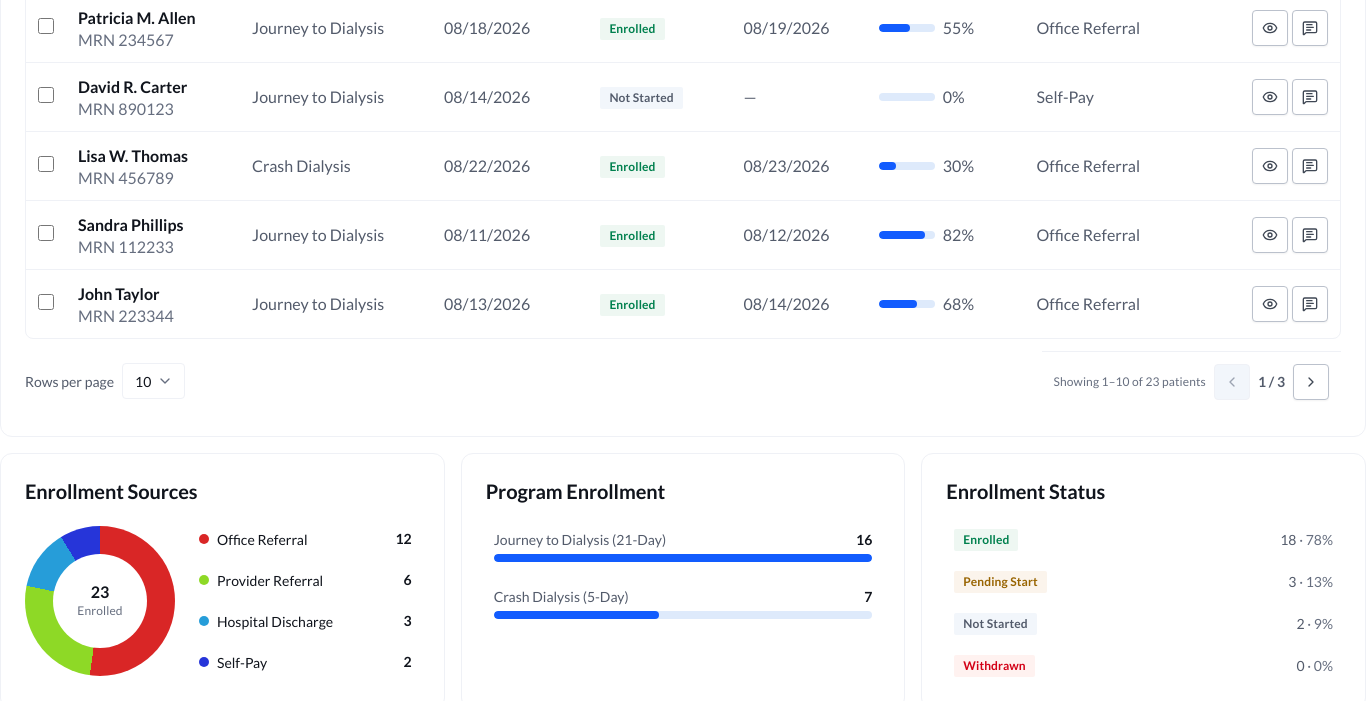
filtering from the panels › narrows the table by referral source, and writes it to the URL
This screenshot has width=1366, height=701.
(page scrolled)
What coordinates should you click on to do the following:
click the button "Self-Pay 2"
I would click on:
 (305, 662)
Its box is [191,644,420,681].
(page scrolled)
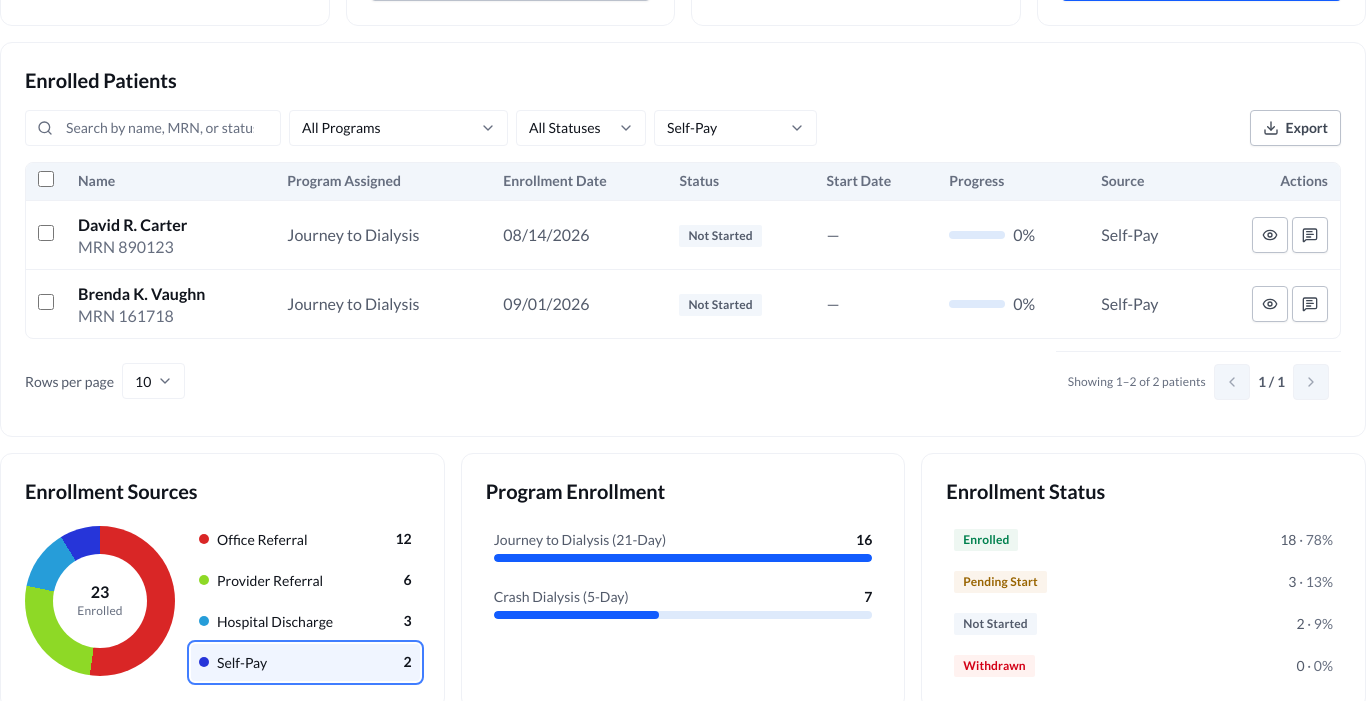
Expected: the text "Showing 1–2 of 2 patients" is shown, [1068,373,1206,391]
